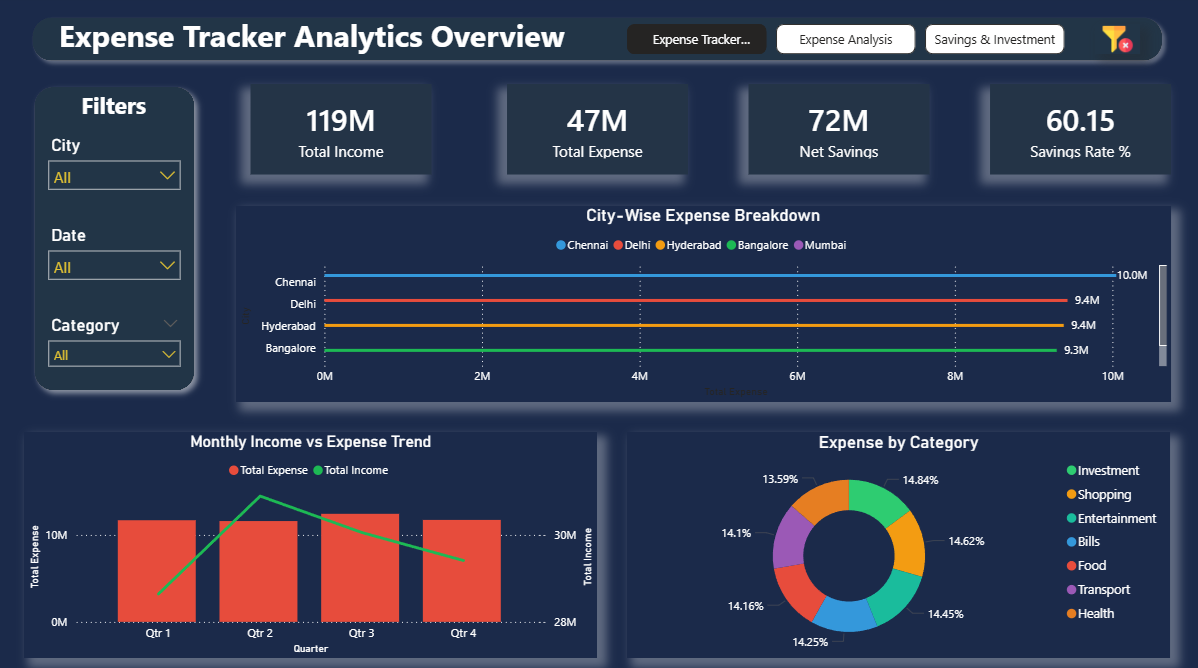

What the dashboard file says about the page in this screenshot:
{"tool":"powerbi","page":{"name":"Expense Tracker Analytics Overview","canvas":[1280,720],"ordinal":0},"visuals":[{"type":"shape","box":[32,16,1216,64],"z":0},{"type":"lineClusteredColumnComboChart","title":"Monthly Income vs Expense Trend","fields":{"Category":["Expense Tracker.Date.Variation.Date Hierarchy.Year","Expense Tracker.Date.Variation.Date Hierarchy.Quarter","Expense Tracker.Date.Variation.Date Hierarchy.Month","Expense Tracker.Date.Variation.Date Hierarchy.Day"],"Y":["Expense Tracker.Total Expense"],"Y2":["Expense Tracker.Total Income"]},"box":[32,464,608,240],"z":1000},{"type":"textbox","box":[64,16,560,64],"z":2000},{"type":"shape","box":[32,88,192,344],"z":3000},{"type":"textbox","box":[88,96,80,48],"z":4000},{"type":"clusteredBarChart","title":"City-Wise Expense Breakdown","fields":{"Y":["Expense Tracker.Total Expense"],"Category":["Expense Tracker.City"],"Series":["Expense Tracker.City"]},"box":[256,224,992,208],"z":5000},{"type":"slicer","fields":{"Values":["Expense Tracker.Date.Variation.Date Hierarchy.Year","Expense Tracker.Date.Variation.Date Hierarchy.Quarter","Expense Tracker.Date.Variation.Date Hierarchy.Month","Expense Tracker.Date.Variation.Date Hierarchy.Day"]},"box":[48,240,160,80],"z":6000},{"type":"cardVisual","title":"Total Income","fields":{"Data":["Expense Tracker.Total Income"]},"box":[272,96,192,96],"z":7000},{"type":"slicer","fields":{"Values":["Expense Tracker.City"]},"box":[48,144,160,80],"z":8000},{"type":"slicer","fields":{"Values":["Expense Tracker.Category"]},"box":[48,336,160,80],"z":9000},{"type":"cardVisual","title":"Total Income","fields":{"Data":["Expense Tracker.Total Expense"]},"box":[544,96,192,96],"z":10000},{"type":"cardVisual","title":"Total Income","fields":{"Data":["Expense Tracker.Net Savings"]},"box":[800,96,192,96],"z":11000},{"type":"cardVisual","title":"Total Income","fields":{"Data":["Expense Tracker.Savings Rate %"]},"box":[1056,96,192,96],"z":12000},{"type":"donutChart","title":"Expense by Category","fields":{"Category":["Expense Tracker.Category"],"Y":["Expense Tracker.Total Expense"]},"box":[672,464,576,240],"z":13000},{"type":"image","box":[1168,32,48,32],"z":14000},{"type":"pageNavigator","box":[672,32,464,32],"z":15000}]}

Visuals, with their boxes in screenshot pixels (x1, y1, x2, y2), scaled from the page's 1280x720 canvas onto the 1198x668 screenshot:
shape: (left=30, top=15, right=1168, bottom=74)
"Monthly Income vs Expense Trend" lineClusteredColumnComboChart: (left=30, top=430, right=599, bottom=653)
textbox: (left=60, top=15, right=584, bottom=74)
shape: (left=30, top=82, right=210, bottom=401)
textbox: (left=82, top=89, right=157, bottom=134)
"City-Wise Expense Breakdown" clusteredBarChart: (left=240, top=208, right=1168, bottom=401)
slicer - Expense Tracker.Date.Variation.Date Hierarchy.Year x Expense Tracker.Date.Variation.Date Hierarchy.Quarter: (left=45, top=223, right=195, bottom=297)
"Total Income" cardVisual: (left=255, top=89, right=434, bottom=178)
slicer - Expense Tracker.City: (left=45, top=134, right=195, bottom=208)
slicer - Expense Tracker.Category: (left=45, top=312, right=195, bottom=386)
"Total Income" cardVisual: (left=509, top=89, right=689, bottom=178)
"Total Income" cardVisual: (left=749, top=89, right=928, bottom=178)
"Total Income" cardVisual: (left=988, top=89, right=1168, bottom=178)
"Expense by Category" donutChart: (left=629, top=430, right=1168, bottom=653)
image: (left=1093, top=30, right=1138, bottom=59)
pageNavigator: (left=629, top=30, right=1063, bottom=59)
